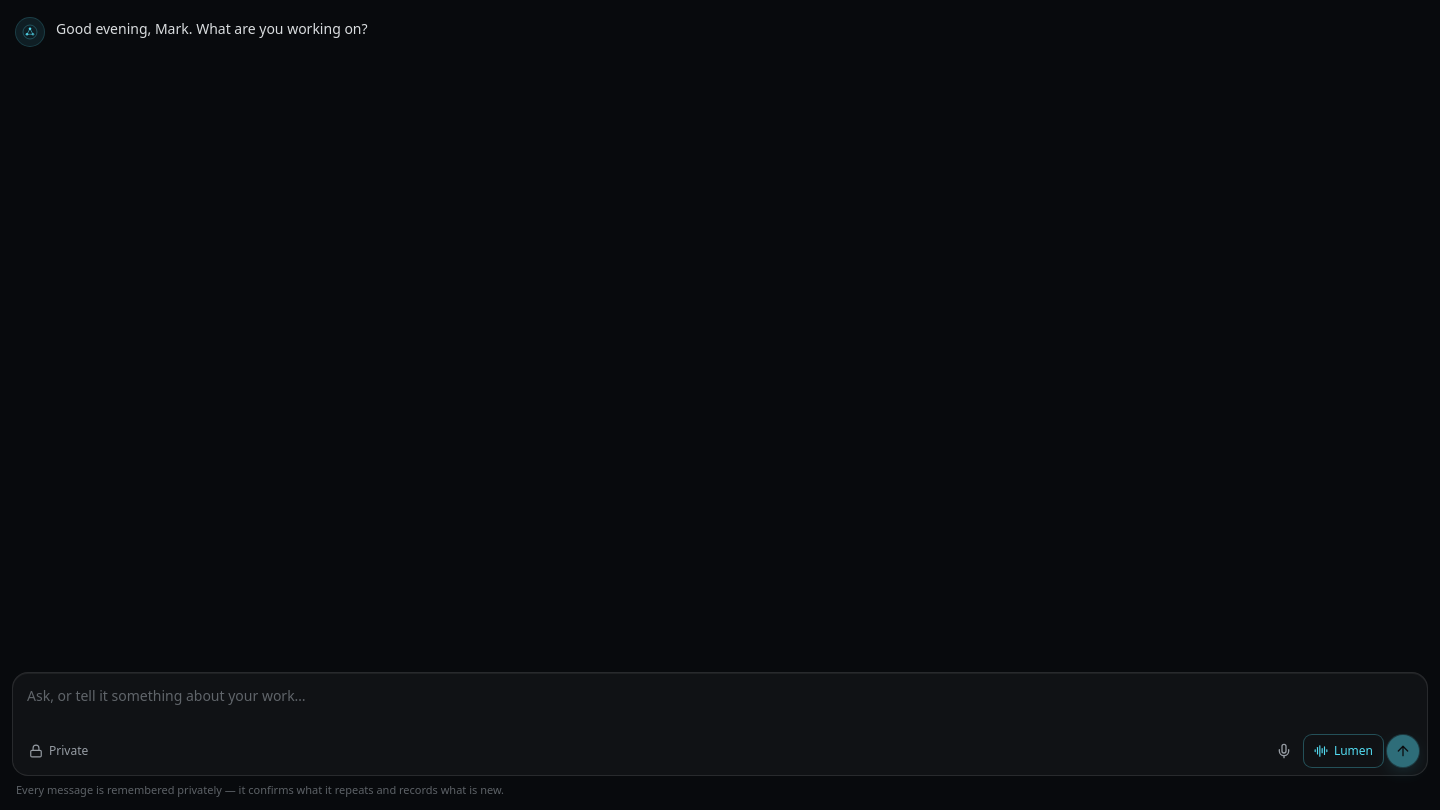
Scenario: dictation › puts the transcript in the box for review — it does not send it
Click the button named "Dictate a message": (1284, 750) [1268,734,1300,766]
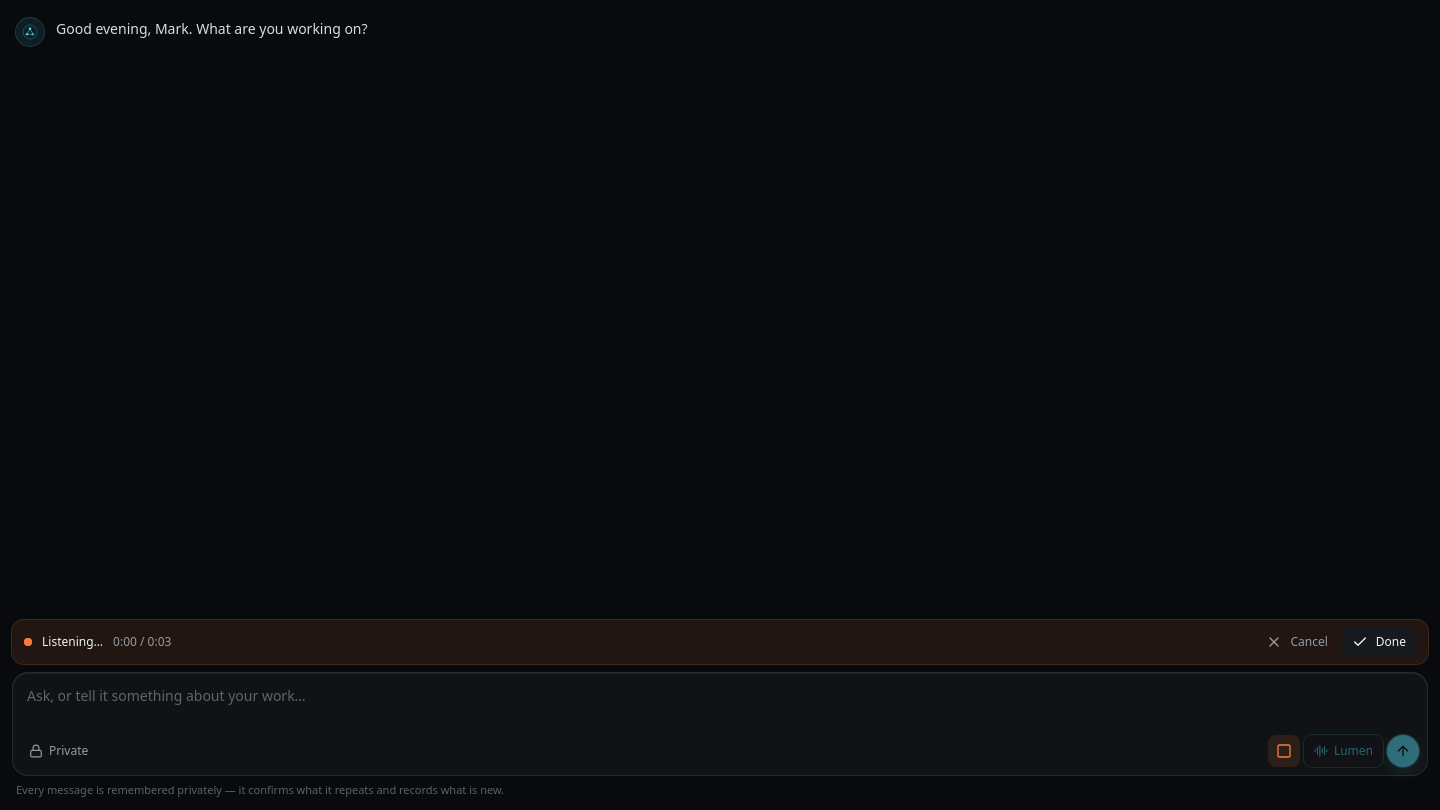
Expected: the text "Listening…" is shown, [42,634,103,650]
Click the button "Done": (1379, 642) [1342,628,1416,656]
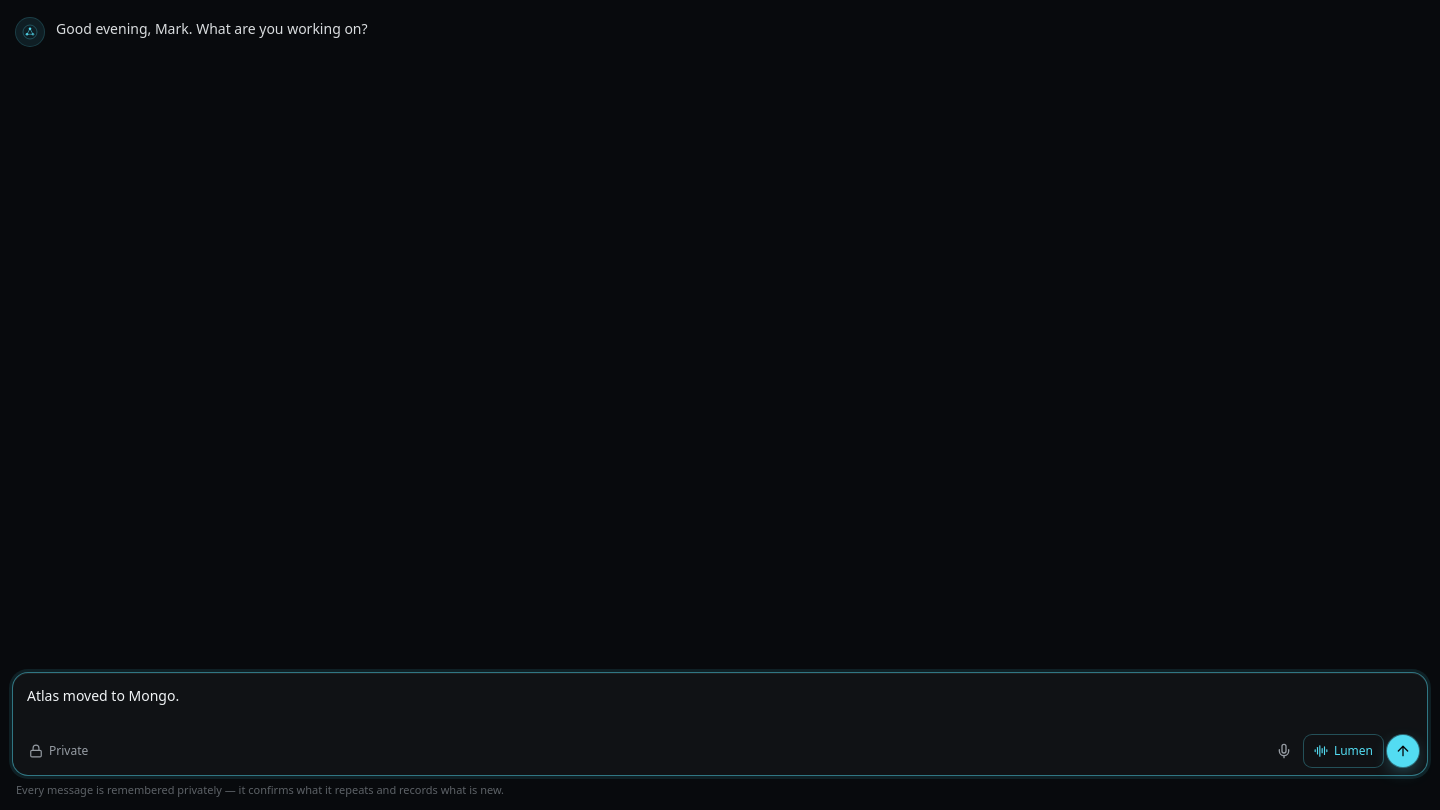
Expected: the text box holds "Atlas moved to Mongo.", [13,673,1427,734]
